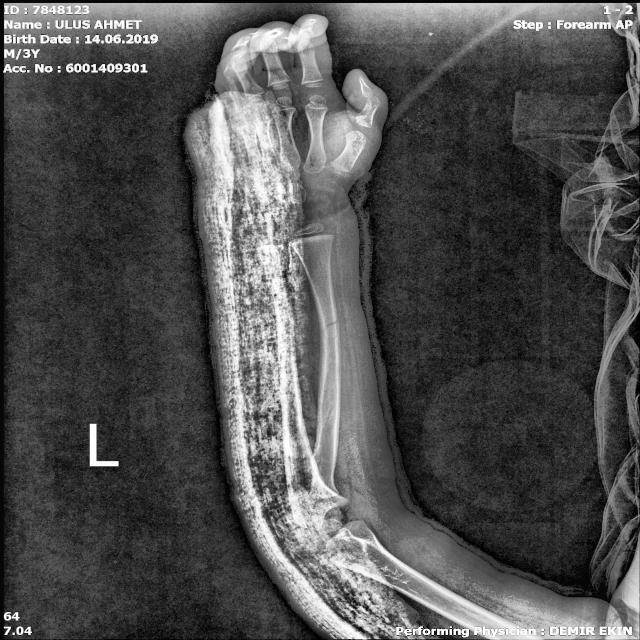Fracture: (313, 304, 348, 342)
